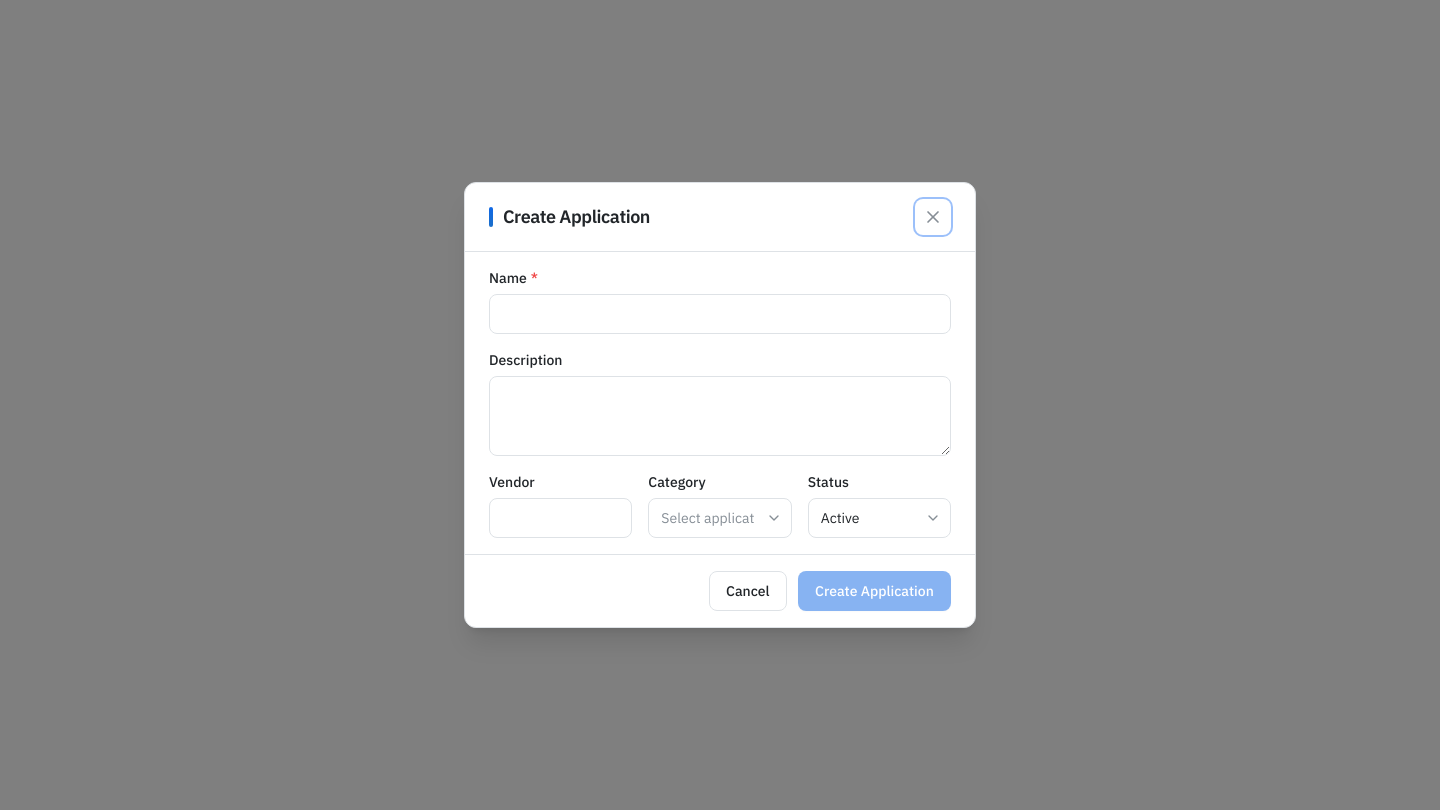
ProductFormDialog category behavior › reveals Specify Category and prevents a blank custom category submission
In the field labelled "Name": {"x": 720, "y": 314} [489, 294, 951, 334], type "Custom Product"
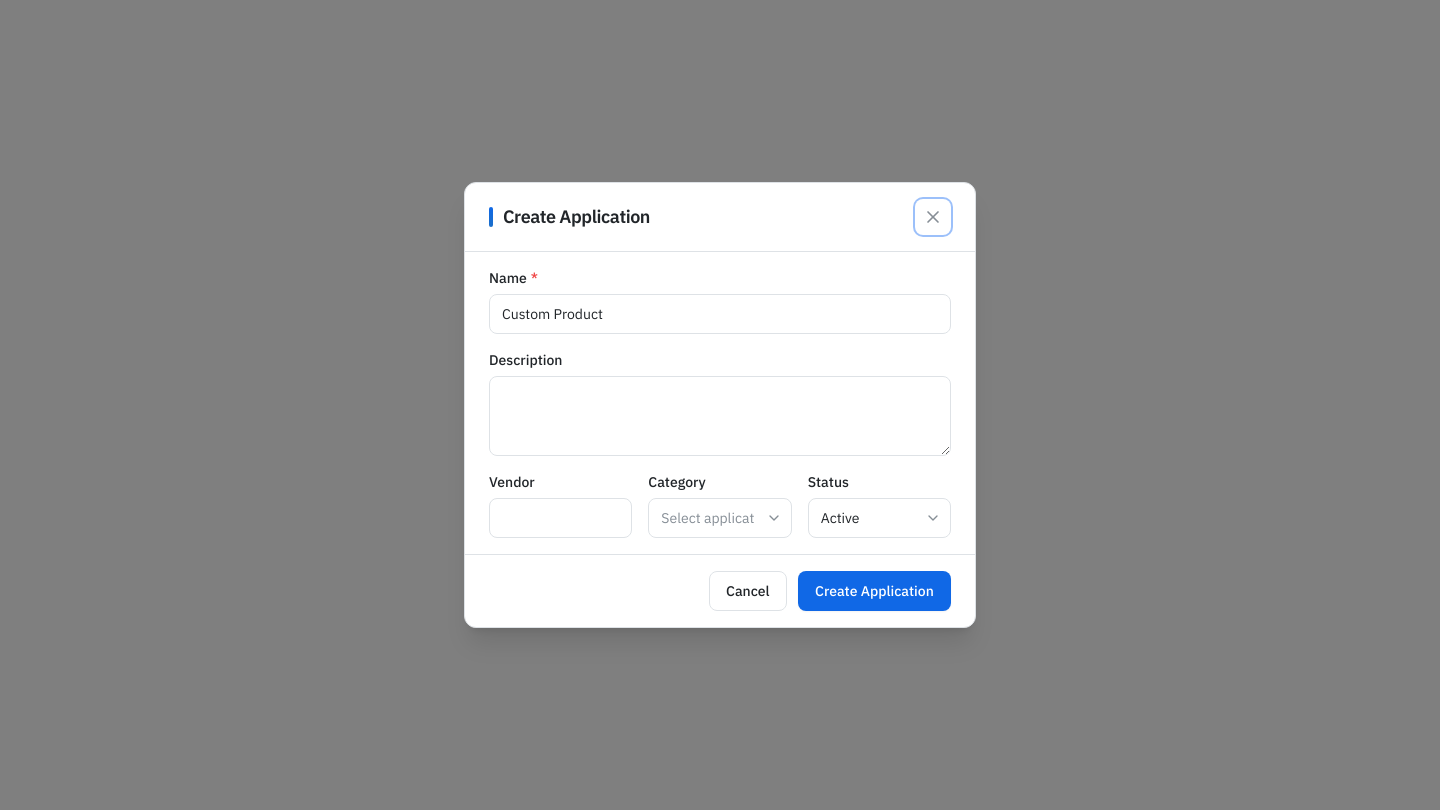
Select "Other" in the dropdown labelled "Category": {"x": 720, "y": 518} [648, 498, 792, 538]
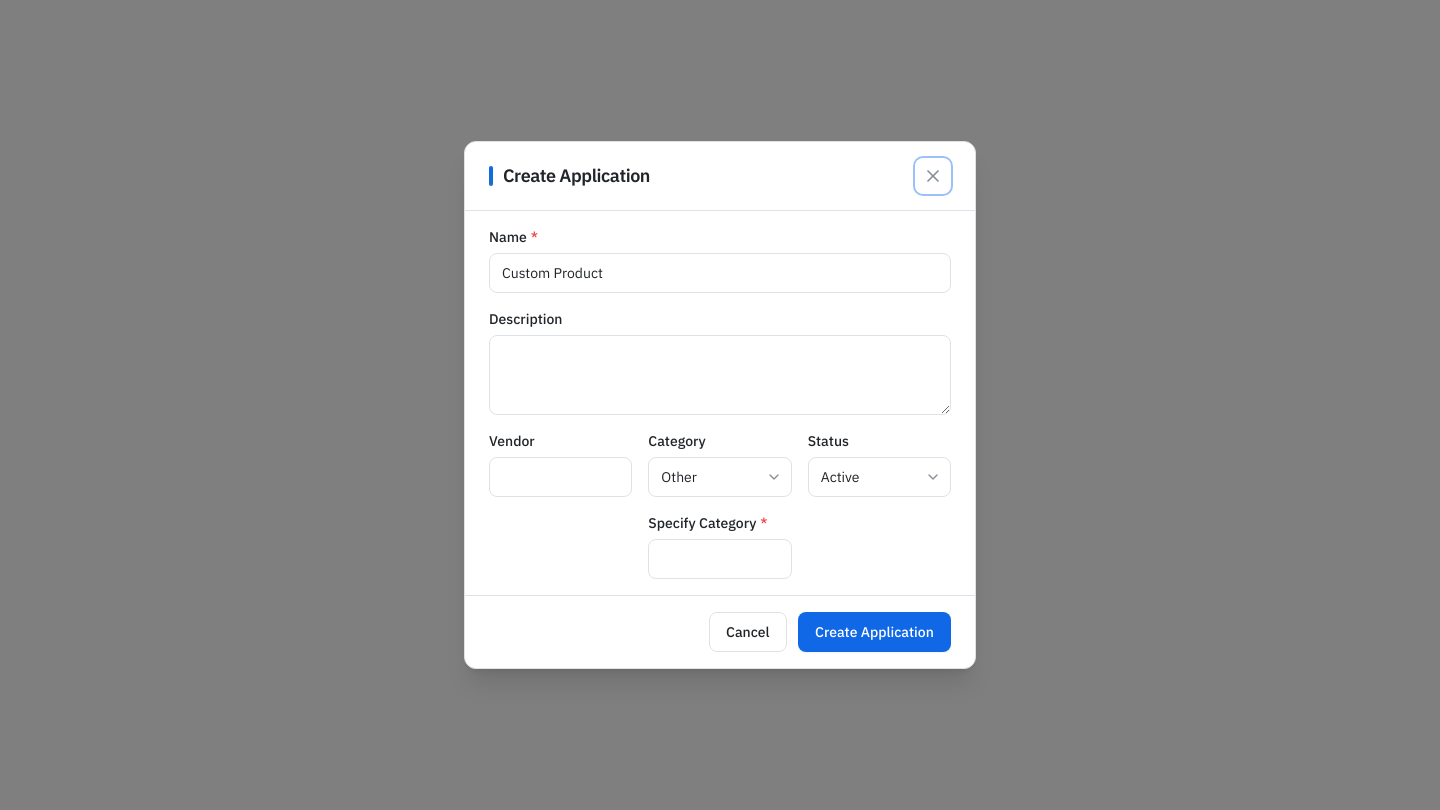
Result: the field labelled "Specify Category" is shown at [648, 539, 792, 579]
Click the button "Create Application": {"x": 875, "y": 632} [798, 612, 951, 652]
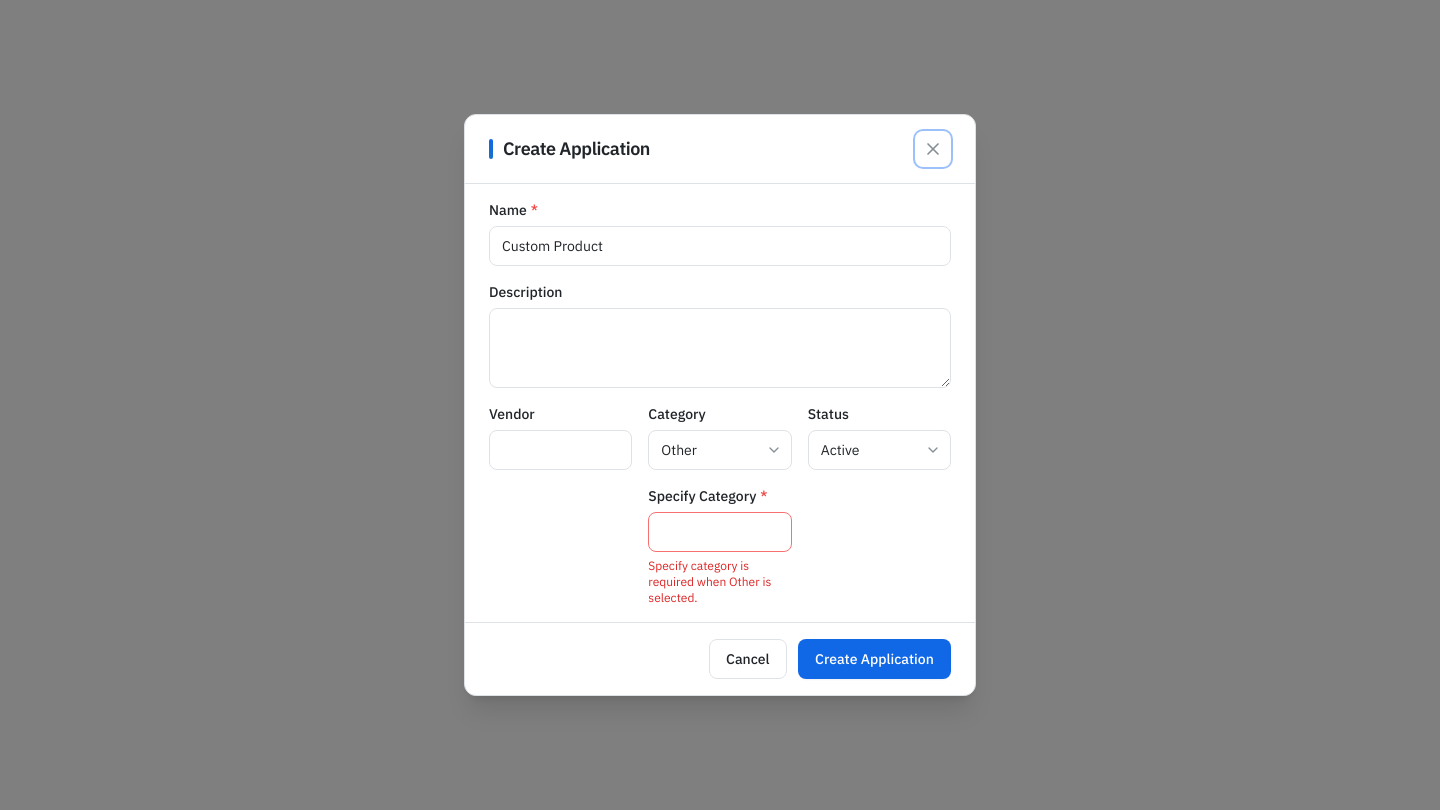
Result: the message reads "Specify category is required when Other is selected." at [648, 558, 771, 605]
